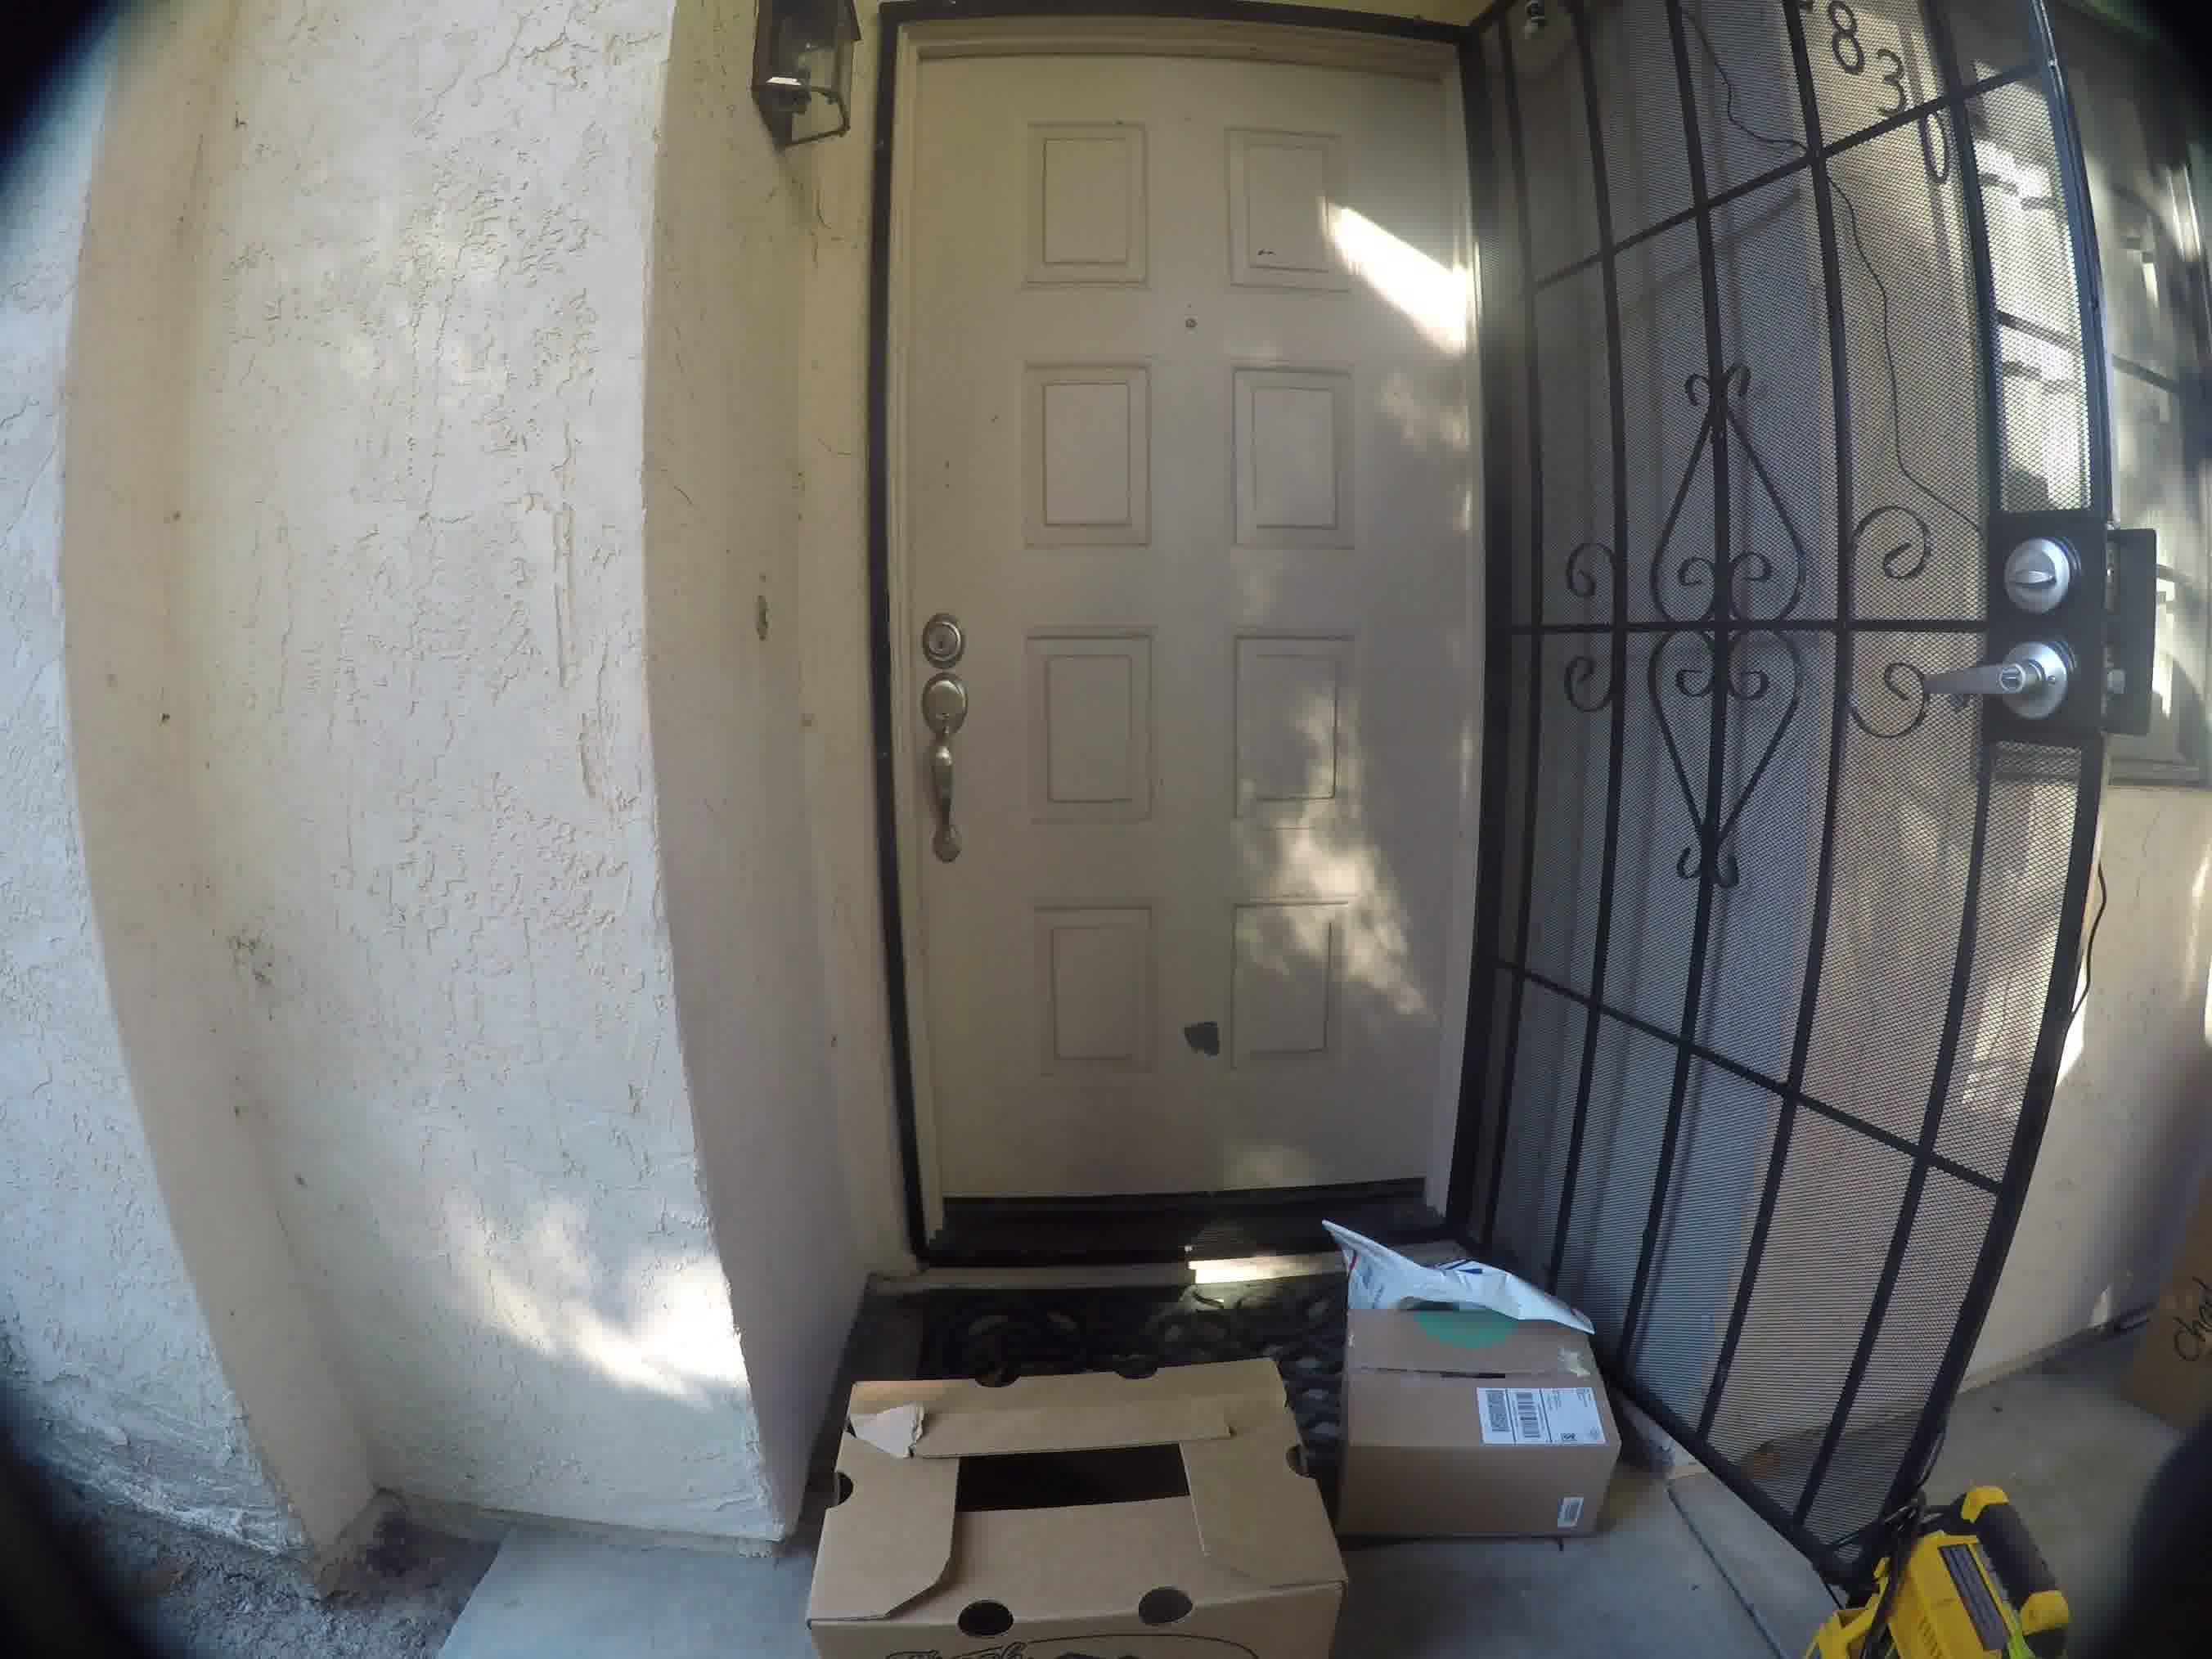box: (827, 1354, 1339, 1652), (1339, 1293, 1629, 1542)
plastic_bag: (1313, 1204, 1592, 1309)
